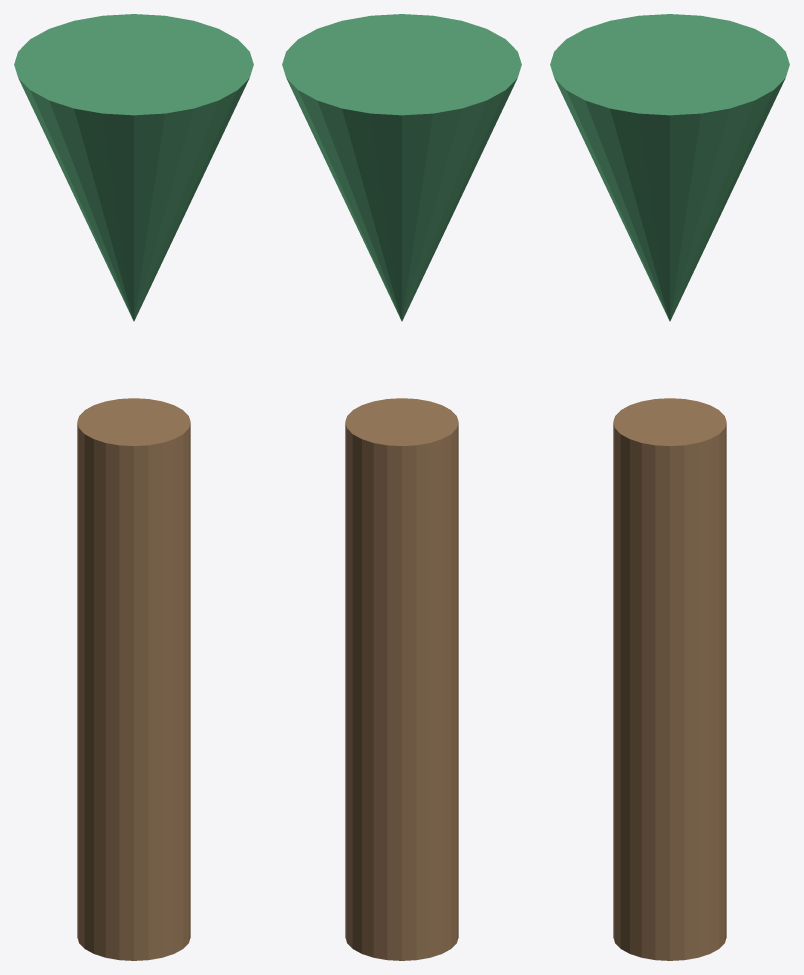
Rendered from tree_conifer.glb.
The picture shows the model from 3 angles, left to right: view 1: azimuth 30°, elevation 25°; view 2: azimuth 150°, elevation 25°; view 3: azimuth 270°, elevation 25°; orthographic projection.
Parts seen in each view (by area): view 1: trunk, foliage; view 2: trunk, foliage; view 3: trunk, foliage.
Part boxes in pixels (x1,y1,x2,y2): trunk: (77, 398, 190, 960); foliage: (14, 14, 253, 321); trunk: (345, 398, 458, 960); foliage: (282, 14, 521, 321); trunk: (613, 398, 726, 960); foliage: (550, 14, 789, 321).
Size of the model in its own units: 0.76 by 3.05 by 0.76.
